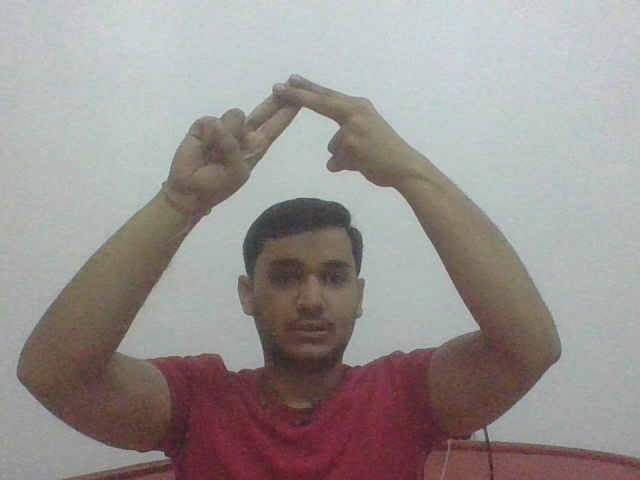F: (171, 72, 422, 196)
